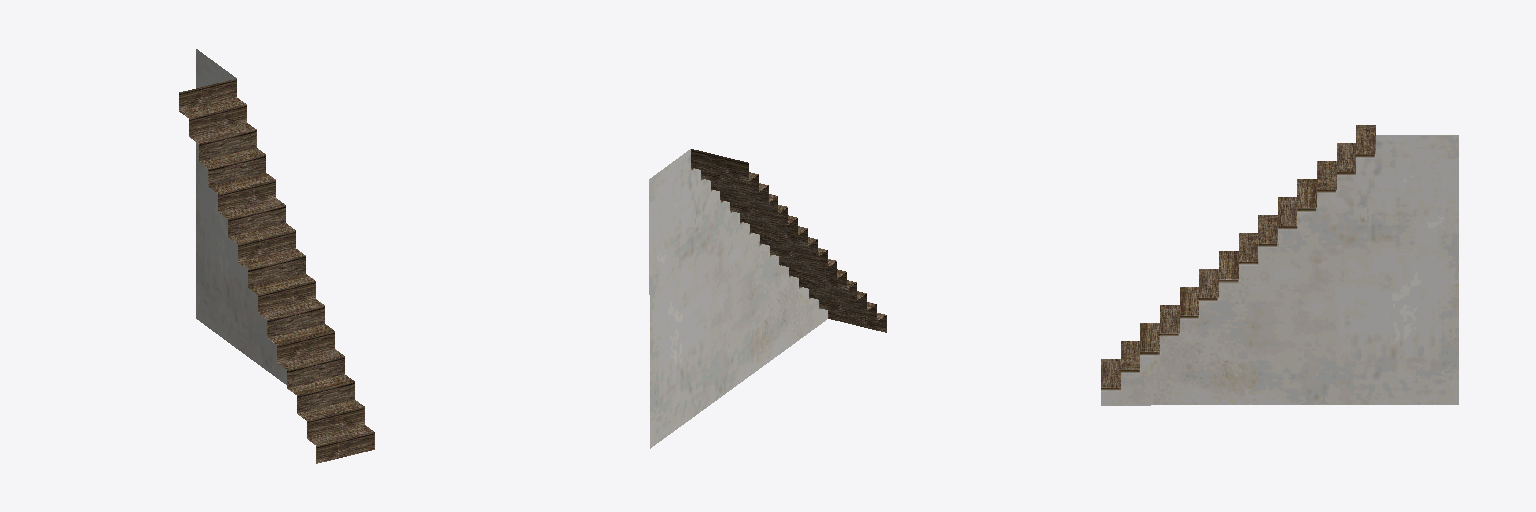
3 views of the same model, side by side, from view 1: azimuth 30°, elevation 25°; view 2: azimuth 150°, elevation 25°; view 3: azimuth 270°, elevation 25° (orthographic).
Visible parts, largest first — view 1: Schurchstaircase00-00.Schurchstaircase00-00_Schurchstaircase00-0; view 2: Schurchstaircase00-00.Schurchstaircase00-00_Schurchstaircase00-0; view 3: Schurchstaircase00-00.Schurchstaircase00-00_Schurchstaircase00-0.
Boxes of the visible parts, x1,y1,x2,y2 form: Schurchstaircase00-00.Schurchstaircase00-00_Schurchstaircase00-0: [179, 49, 374, 463]; Schurchstaircase00-00.Schurchstaircase00-00_Schurchstaircase00-0: [649, 149, 886, 448]; Schurchstaircase00-00.Schurchstaircase00-00_Schurchstaircase00-0: [1101, 125, 1458, 405].
Bounding box in the file's own units: 0.3746 × 1.67 × 2.
6 materials, 6 textured.